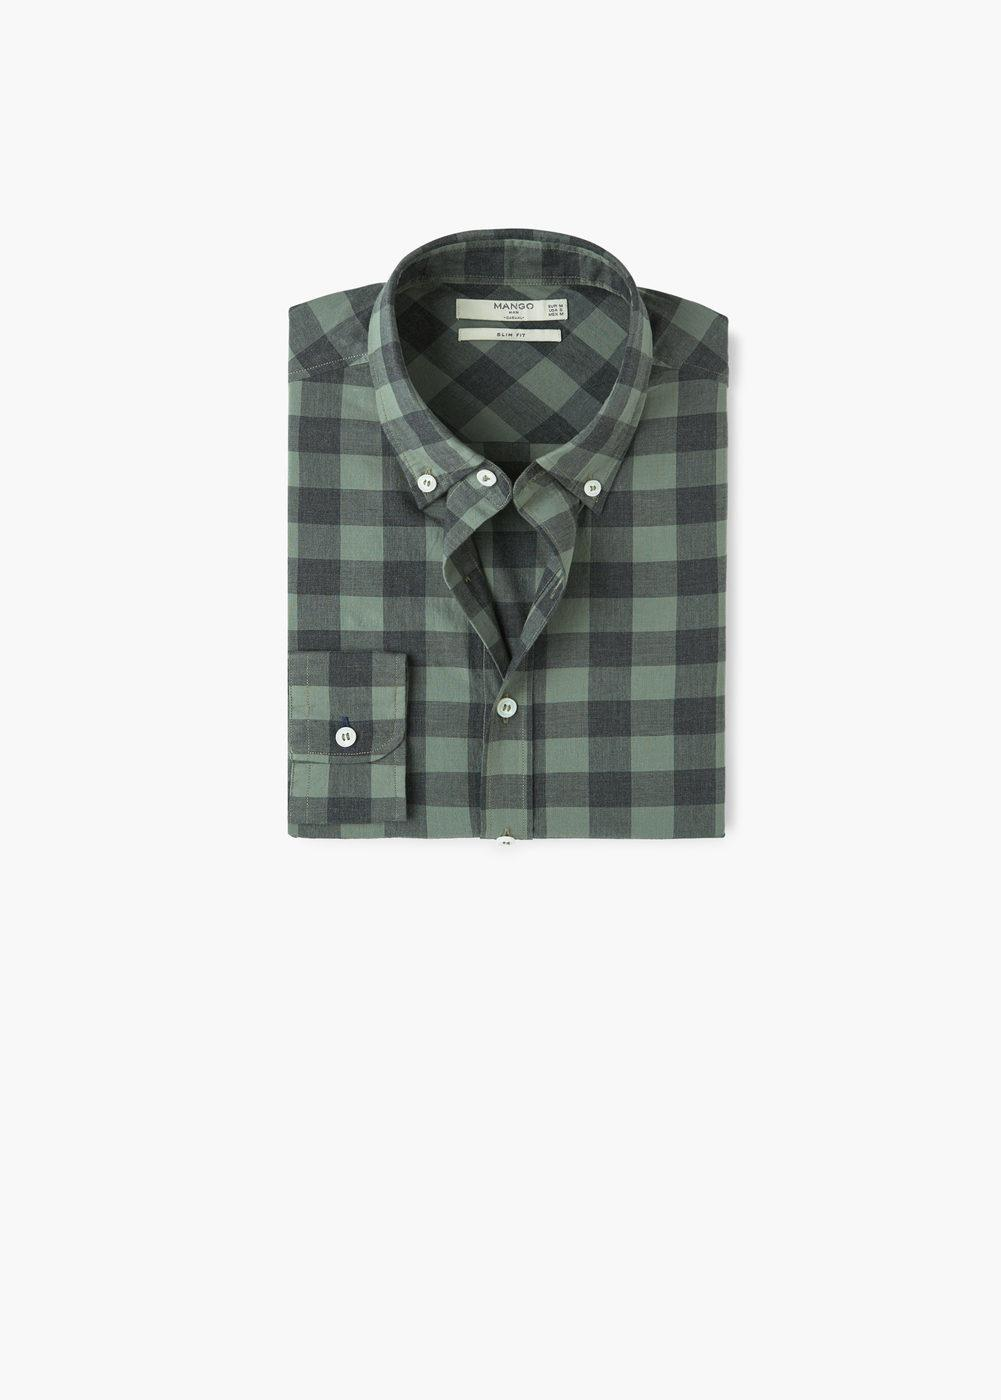teeshirt: (248, 208, 750, 880)
